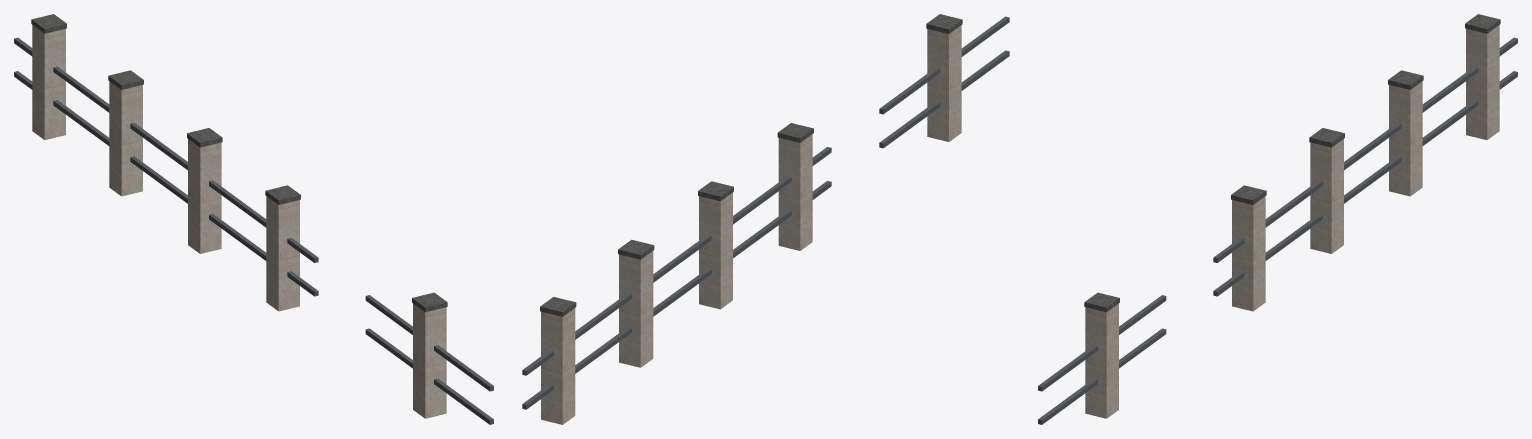
File: Subway01_InterBorder.FBX
The picture shows the model from 3 angles, left to right: view 1: azimuth 30°, elevation 25°; view 2: azimuth 150°, elevation 25°; view 3: azimuth 330°, elevation 25°; orthographic projection.
Visible parts, largest first — view 1: Subway01_InterBorder01, Subway01_InterBorder03, Subway01_InterBorder02; view 2: Subway01_InterBorder01, Subway01_InterBorder03, Subway01_InterBorder02; view 3: Subway01_InterBorder01, Subway01_InterBorder03, Subway01_InterBorder02.
Boxes of the visible parts, box(x1,y1,x2,y2) form: Subway01_InterBorder01: box(32, 25, 446, 418); Subway01_InterBorder03: box(14, 37, 493, 424); Subway01_InterBorder02: box(31, 14, 447, 312); Subway01_InterBorder01: box(541, 25, 961, 424); Subway01_InterBorder03: box(522, 16, 1009, 409); Subway01_InterBorder02: box(540, 14, 962, 316); Subway01_InterBorder01: box(1085, 25, 1499, 418); Subway01_InterBorder03: box(1038, 37, 1517, 424); Subway01_InterBorder02: box(1084, 14, 1500, 312).
Bounding box in the file's own units: 283 × 1348 × 10426.
